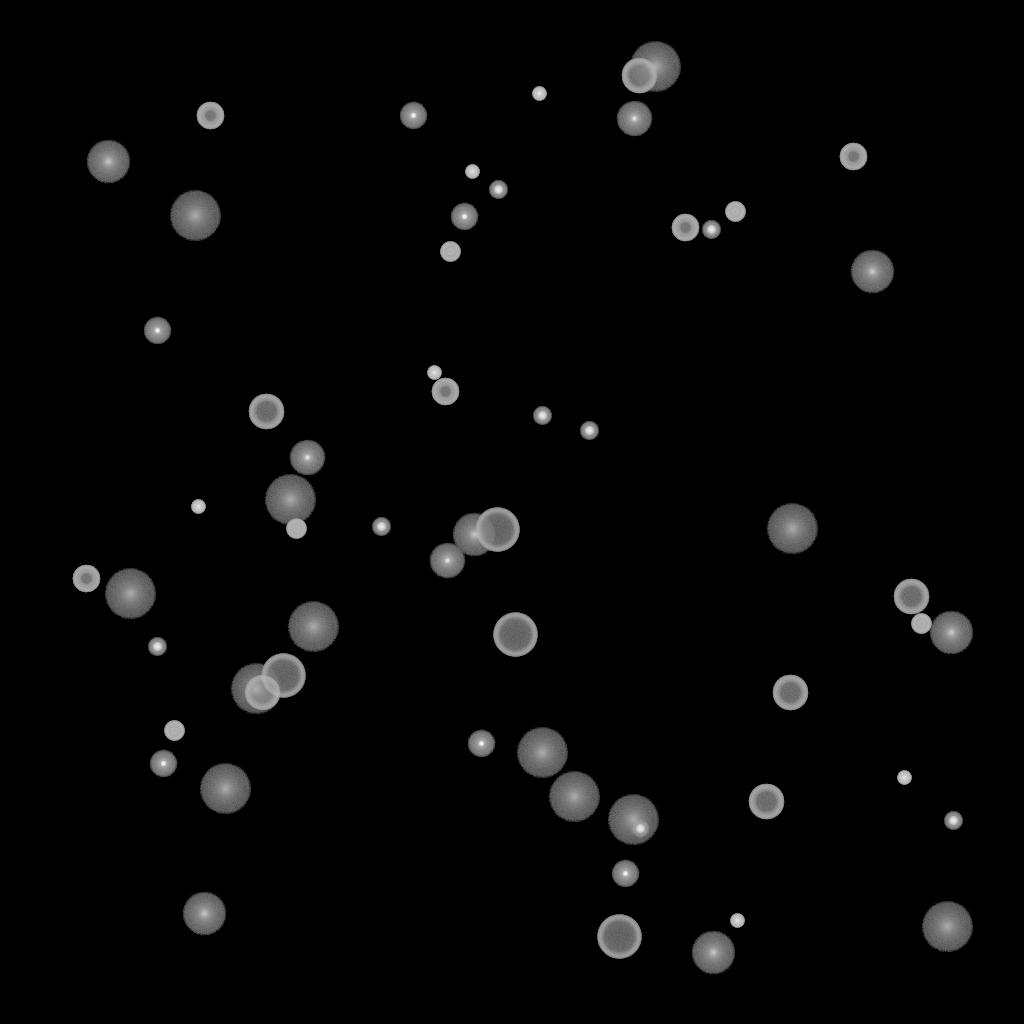depth:-10: (149, 750, 177, 778), (143, 317, 171, 345), (399, 102, 427, 130), (467, 730, 495, 758), (611, 860, 639, 888), (450, 203, 478, 231)
depth:-20: (489, 181, 507, 199), (944, 812, 962, 830), (580, 422, 598, 440), (702, 221, 720, 239), (631, 820, 649, 838), (533, 407, 551, 425), (372, 518, 390, 536), (148, 638, 166, 656)
depth:-30: (730, 914, 744, 928), (465, 165, 479, 179), (191, 500, 205, 514), (427, 366, 441, 380), (897, 771, 911, 785), (532, 87, 546, 101)
depth:-40: (286, 519, 306, 539), (164, 721, 184, 741), (911, 614, 931, 634), (440, 242, 460, 262), (725, 202, 745, 222)
depth:-50: (839, 143, 867, 171), (671, 214, 699, 242), (431, 378, 459, 406), (72, 565, 100, 593), (196, 102, 224, 130)
depth:-60: (244, 675, 280, 711), (748, 784, 784, 820), (893, 579, 929, 615), (248, 394, 284, 430), (621, 58, 657, 94), (772, 675, 808, 711)
depth:-70: (597, 915, 641, 959), (493, 613, 537, 657), (261, 654, 305, 698), (475, 508, 519, 552)
depth:0: (429, 543, 465, 579), (616, 101, 652, 137), (289, 440, 325, 476)
depth:10: (182, 892, 226, 936), (850, 250, 894, 294), (929, 611, 973, 655), (691, 931, 735, 975), (86, 140, 130, 184), (452, 513, 496, 557)
depth:20: (287, 602, 339, 652), (766, 504, 818, 554), (230, 664, 282, 714), (516, 728, 568, 778), (264, 475, 316, 525), (199, 764, 251, 814), (169, 191, 221, 241), (921, 902, 973, 952), (104, 569, 156, 619), (548, 772, 600, 822), (607, 795, 659, 845), (629, 42, 681, 92)
